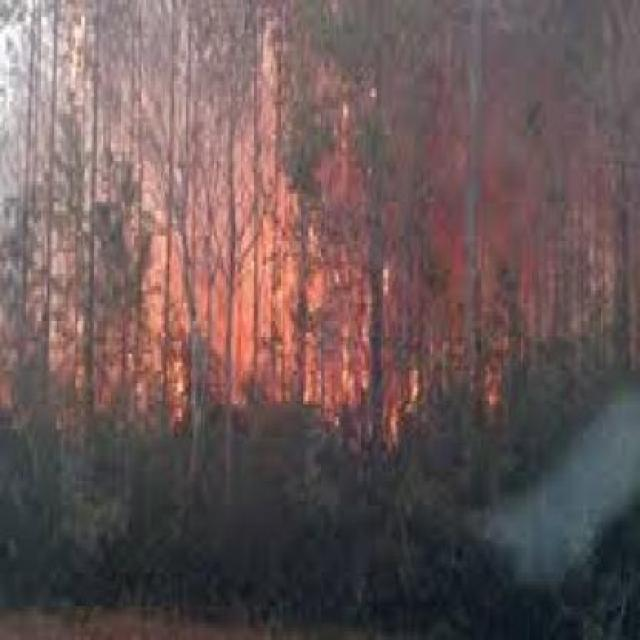Fire: (52, 173, 566, 470)
